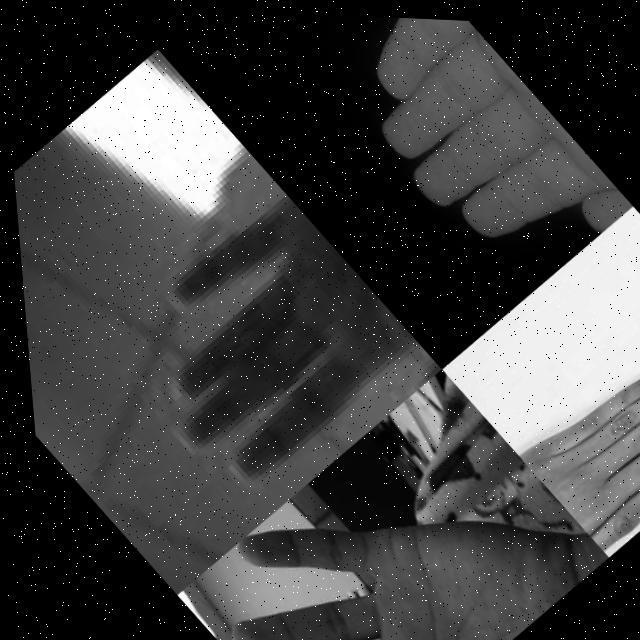no-gloves: (77, 178, 446, 532), (152, 383, 572, 640), (297, 10, 636, 304), (499, 290, 640, 550)
